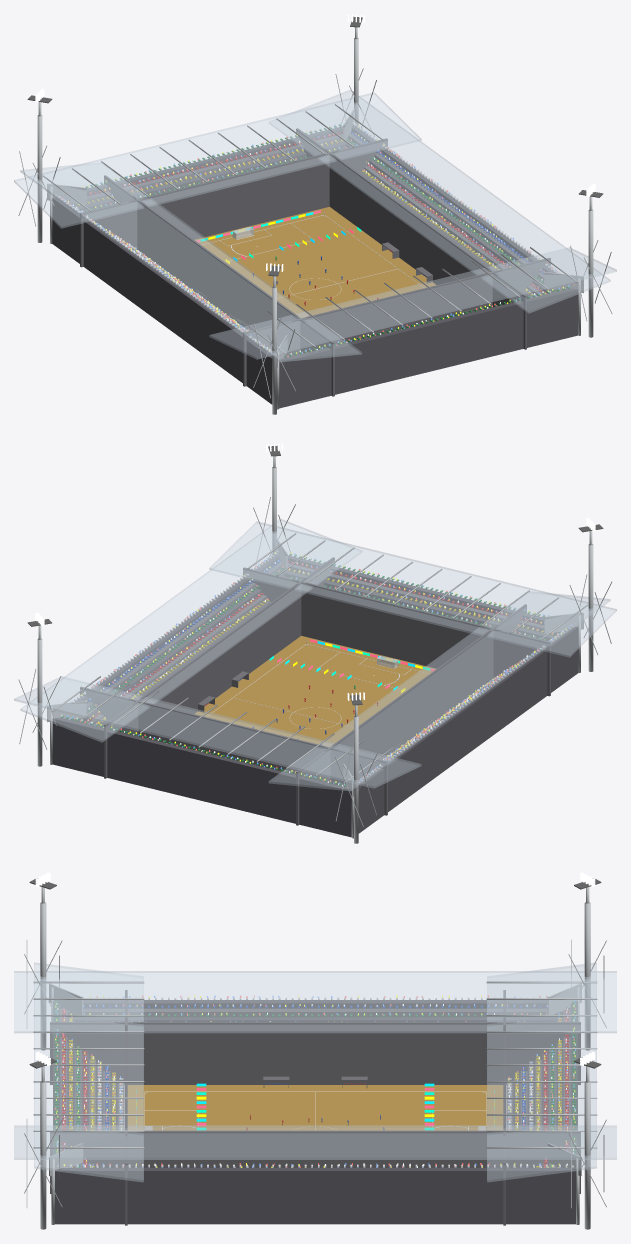
Rendered from stadium-untitled-backup.glb.
3 renders of one model, top to bottom at view 1: azimuth 30°, elevation 25°; view 2: azimuth 150°, elevation 25°; view 3: azimuth 270°, elevation 25°, orthographic. The views are drawn at different scales.
Visible parts, largest first — view 1: Cube.4442, Cube.4440, Cube.4441, Cube.4213, Cube.020, Cube.4439, Cube.4437, Cube.4354, Cube.4438, Cube.4436, Cube.4435, Cube.4273 (+11 smaller); view 2: Cube.4442, Cube.4439, Cube.4441, Cube.4153, Cube.020, Cube.4440, Cube.4435, Cube.4354, Cube.4438, Cube.4436, Cube.4437, Cube.4273 (+11 smaller); view 3: Cube.4441, Cube.4273, Cube.4436, Cube.4439, Cube.4440, Cube.4442, Cube.4438, Cube.020, Cube.4074, Cube.4354, Cube.3802, cyl.190 (+13 smaller).
Boxes of the visible parts, bbox=[...] form: Cube.4442: bbox=[269, 90, 610, 313]; Cube.4440: bbox=[14, 92, 421, 228]; Cube.4441: bbox=[20, 162, 361, 361]; Cube.4213: bbox=[280, 288, 573, 407]; Cube.020: bbox=[195, 207, 435, 317]; Cube.4439: bbox=[209, 247, 616, 359]; Cube.4437: bbox=[80, 138, 387, 267]; Cube.4354: bbox=[52, 198, 282, 408]; Cube.4438: bbox=[296, 128, 526, 349]; Cube.4436: bbox=[104, 175, 334, 396]; Cube.4435: bbox=[243, 258, 550, 386]; Cube.4273: bbox=[352, 125, 578, 336]; Cube.4442: bbox=[20, 519, 361, 742]; Cube.4439: bbox=[209, 521, 616, 657]; Cube.4441: bbox=[269, 591, 610, 790]; Cube.4153: bbox=[57, 717, 350, 836]; Cube.020: bbox=[195, 636, 435, 746]; Cube.4440: bbox=[14, 676, 421, 788]; Cube.4435: bbox=[243, 567, 550, 696]; Cube.4354: bbox=[348, 627, 578, 837]; Cube.4438: bbox=[104, 557, 334, 778]; Cube.4436: bbox=[296, 604, 526, 825]; Cube.4437: bbox=[80, 687, 387, 815]; Cube.4273: bbox=[52, 554, 278, 765]; Cube.4441: bbox=[14, 971, 616, 1032]; Cube.4273: bbox=[55, 1168, 575, 1224]; Cube.4436: bbox=[50, 1022, 580, 1084]; Cube.4439: bbox=[34, 962, 143, 1181]; Cube.4440: bbox=[487, 962, 596, 1181]; Cube.4442: bbox=[14, 1125, 616, 1159]; Cube.4438: bbox=[50, 1130, 580, 1193]; Cube.020: bbox=[127, 1085, 503, 1130]; Cube.4074: bbox=[60, 1008, 570, 1017]; Cube.4354: bbox=[53, 1000, 577, 1008]; Cube.3802: bbox=[67, 1017, 563, 1021]; cyl.190: bbox=[584, 1081, 590, 1229].
Size of the model in its own units: 148 by 58.9 by 185.
